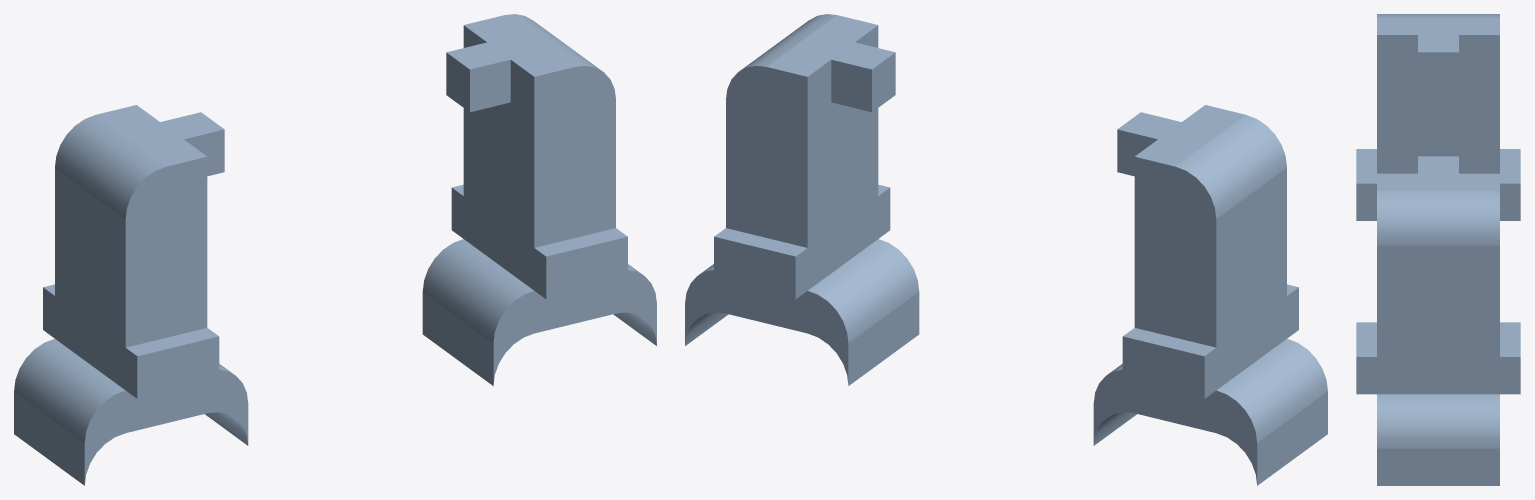
Rendered from ballHolderArms.glb.
3 views of the same model, side by side, from view 1: azimuth 30°, elevation 25°; view 2: azimuth 150°, elevation 25°; view 3: azimuth 270°, elevation 25° (orthographic). The views are drawn at different scales.
Parts seen in each view (by area): view 1: generated(Clone); view 2: generated(Clone); view 3: generated(Clone).
Boxes of the visible parts, box(x1,y1,x2,y2) form: generated(Clone): box(14, 14, 656, 485); generated(Clone): box(685, 14, 1327, 485); generated(Clone): box(1356, 14, 1520, 485).
Bounding box in the file's own units: 14 × 7 × 4.
